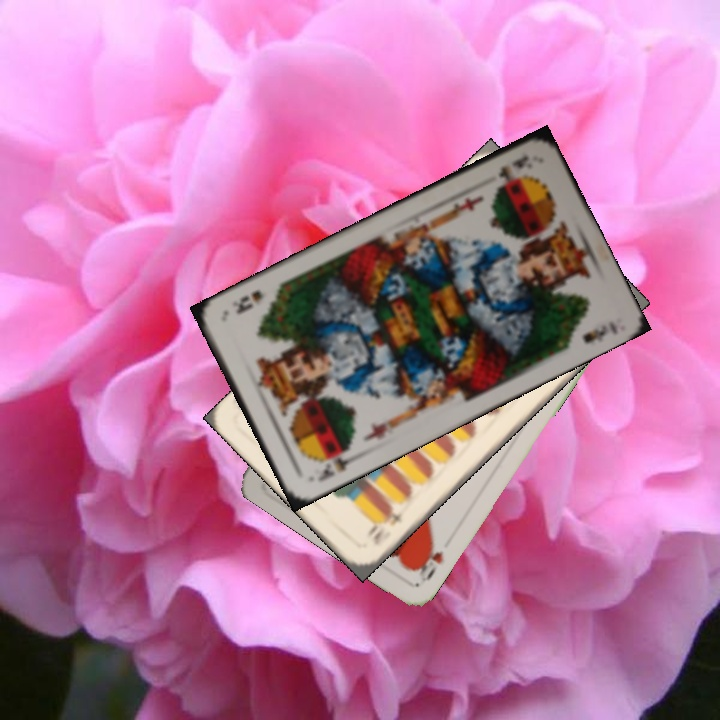E10: (361, 504, 406, 548)
HO: (409, 535, 446, 584)
SK: (313, 443, 360, 484), (490, 150, 531, 190)
